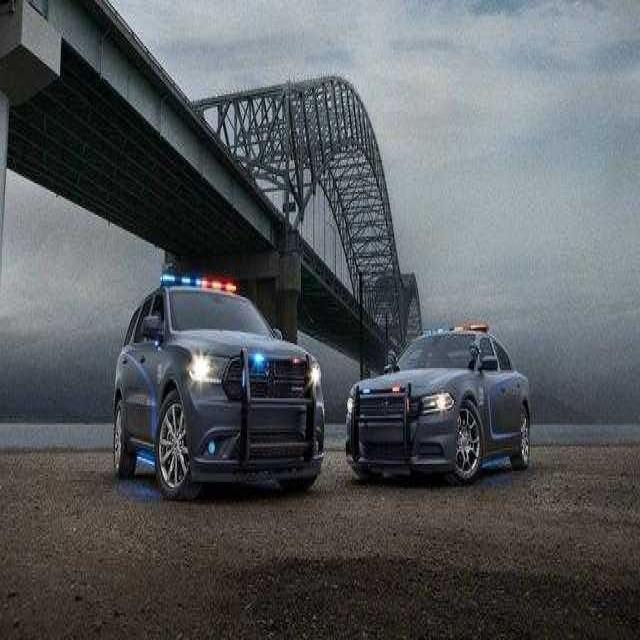firetruck: (99, 263, 340, 520), (347, 305, 544, 495)
